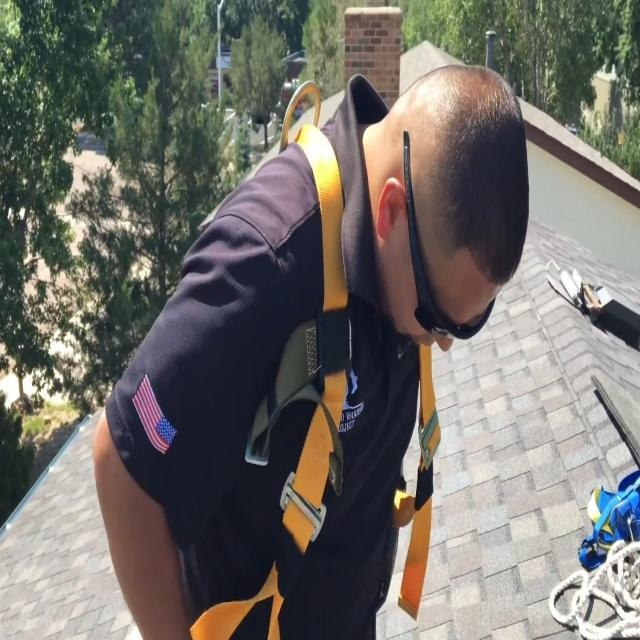Arnes_seguridad: (164, 88, 446, 640)
